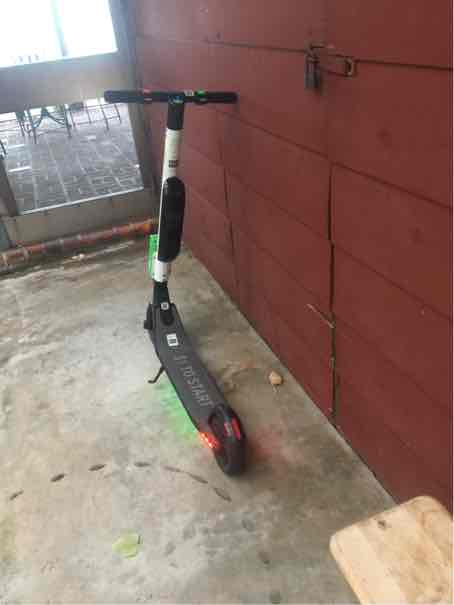scooter: (107, 92, 265, 493)
